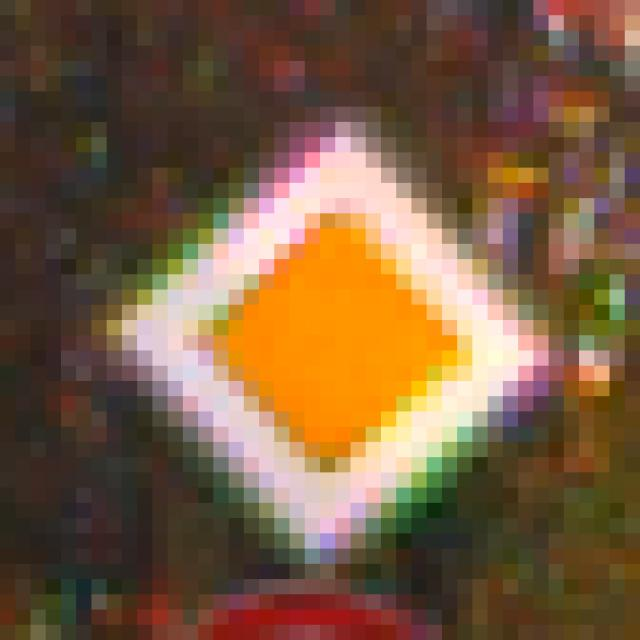Main Road: (92, 77, 565, 565)
